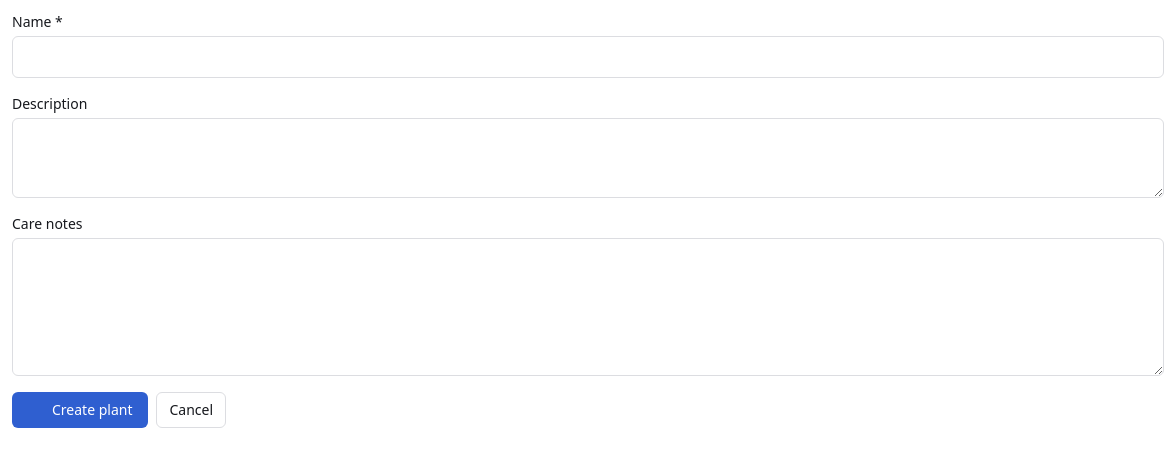
Test case: requires a name before submitting
What coordinates should you click on to do the following:
click the button "Create plant"
I would click on:
 (80, 410)
Its box is x1=12 y1=392 x2=148 y2=428.
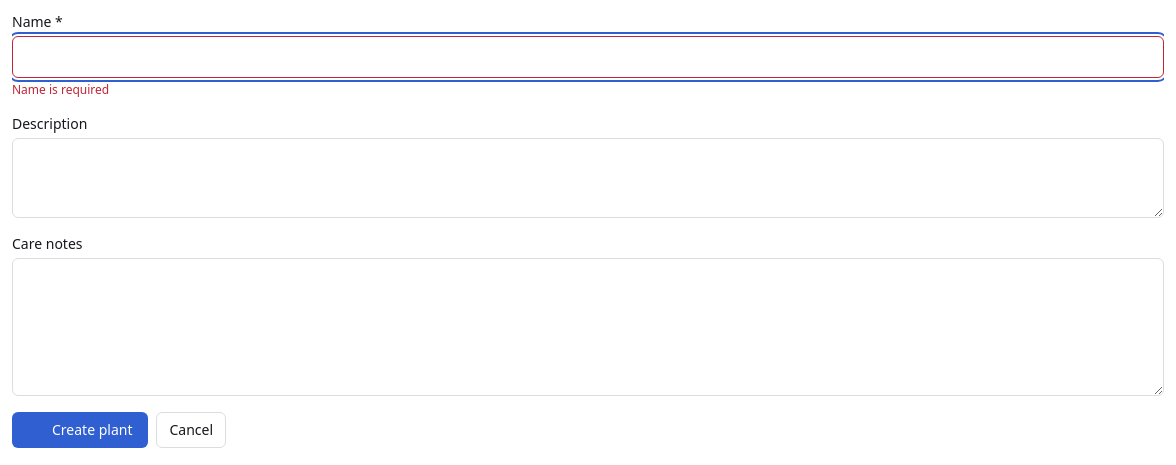
Check: the text "Name is required" is shown, box x1=12 y1=81 x2=109 y2=98
